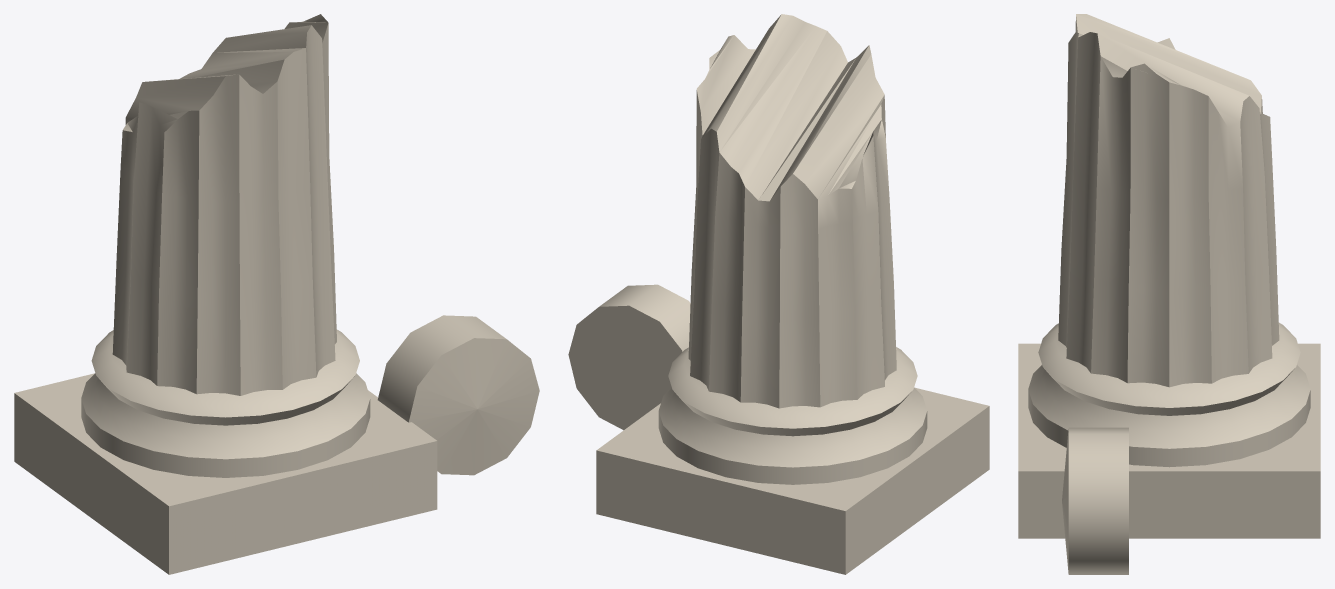
Rendered from column_stump.glb.
3 renders of one model, left to right at view 1: azimuth 30°, elevation 25°; view 2: azimuth 150°, elevation 25°; view 3: azimuth 270°, elevation 25°, orthographic. The views are drawn at different scales.
Parts seen in each view (by area): view 1: OUT; view 2: OUT; view 3: OUT.
Part boxes in pixels (x1,y1,x2,y2): OUT: [14, 14, 539, 574]; OUT: [568, 14, 989, 574]; OUT: [1018, 14, 1320, 574].
Bounding box in the file's own units: 1.33 × 1.52 × 0.9.
